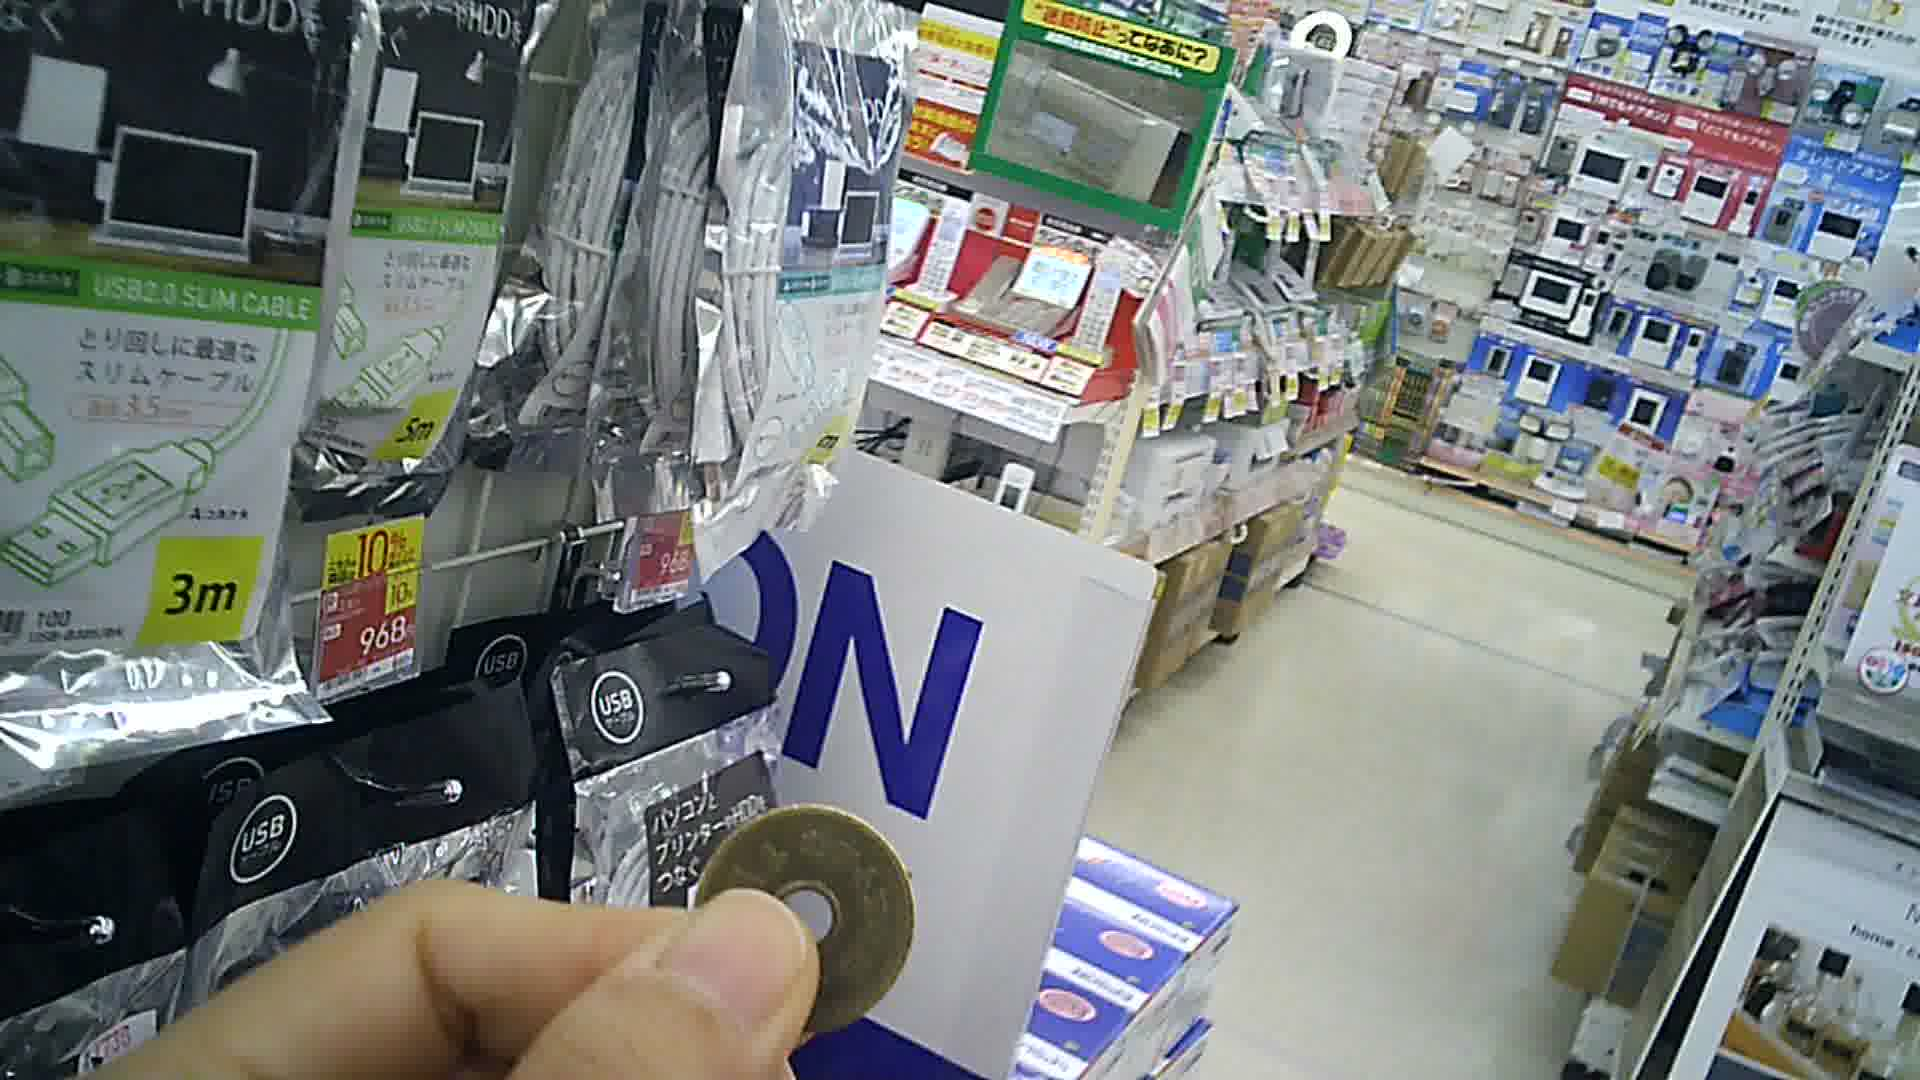5 Yen: (683, 798, 928, 1034)
